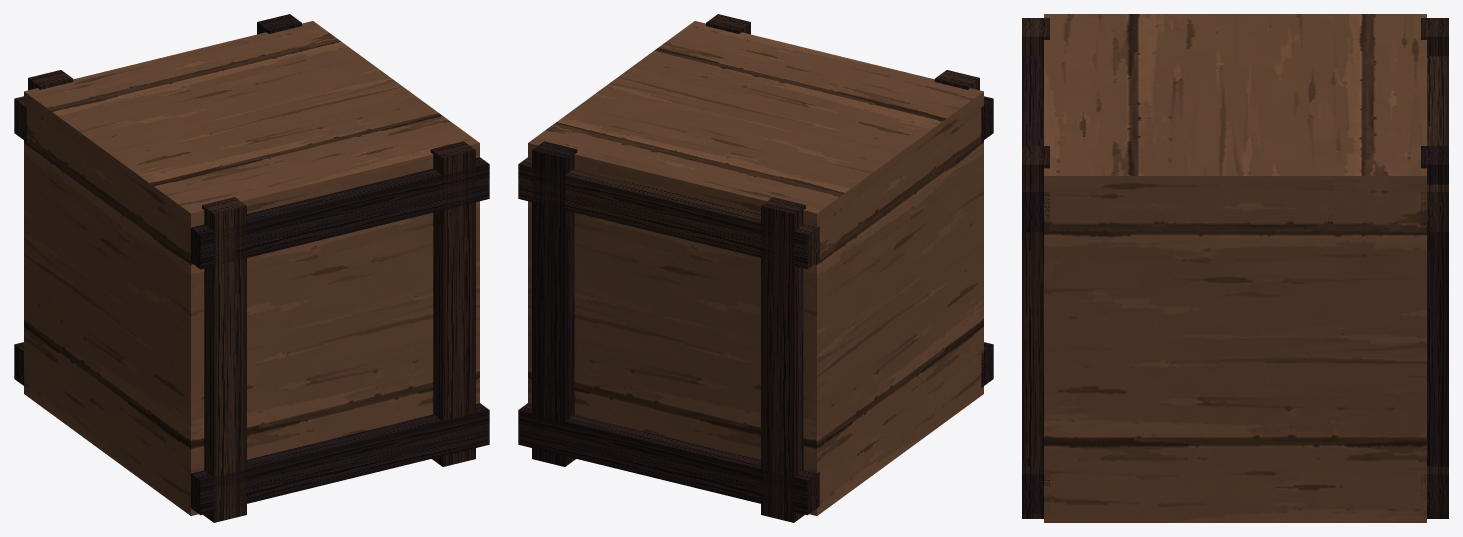
File: crate.glb
The picture shows the model from 3 angles, left to right: view 1: azimuth 30°, elevation 25°; view 2: azimuth 150°, elevation 25°; view 3: azimuth 270°, elevation 25°; orthographic projection. The views are drawn at different scales.
Parts seen in each view (by area): view 1: crate; view 2: crate; view 3: crate.
Part boxes in pixels (x1,y1,x2,y2): crate: [14, 14, 489, 522]; crate: [518, 14, 993, 522]; crate: [1022, 14, 1448, 522].
Bounding box in the file's own units: 0.48 × 0.49 × 0.535.
Materials: 1 (1 with a texture image).
